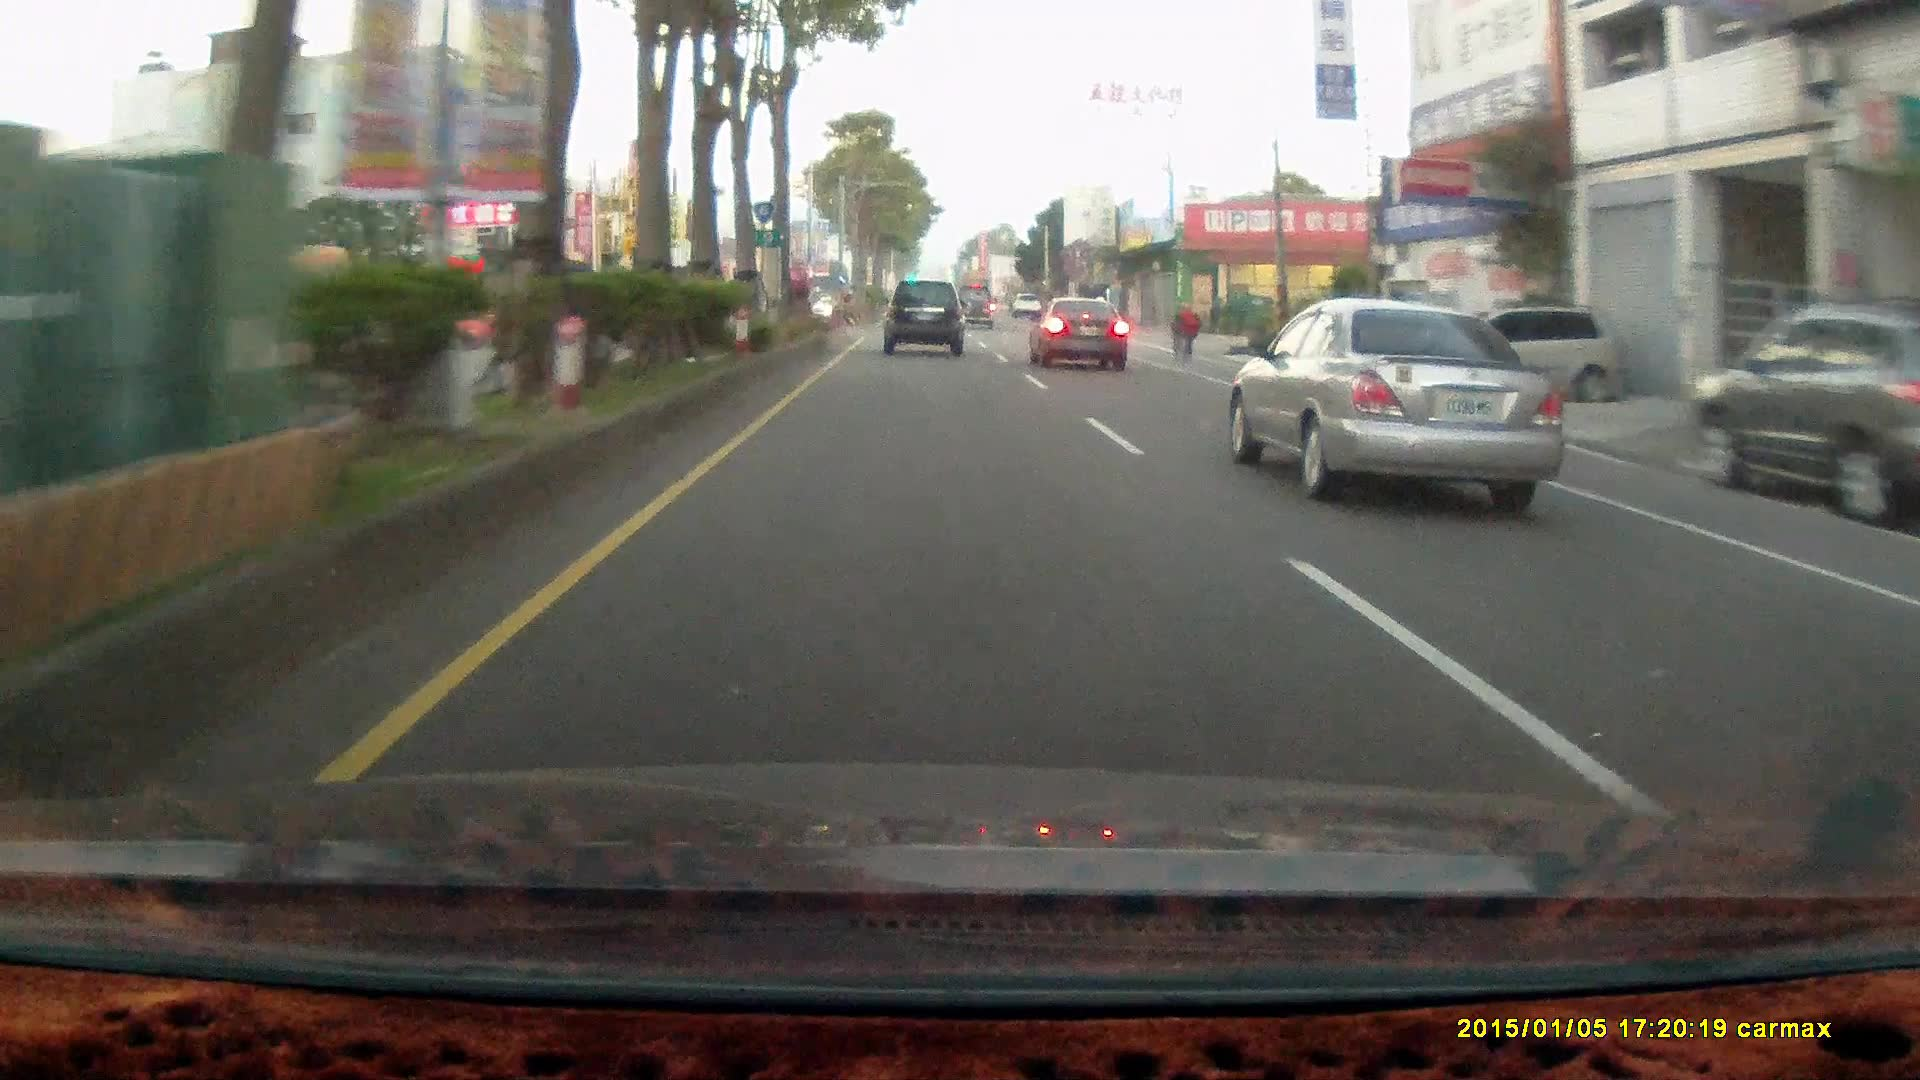pedestrian: (1177, 299, 1200, 356), (1178, 301, 1199, 357)
vehicle: (1236, 298, 1567, 498), (1687, 297, 1920, 528), (1682, 297, 1920, 518), (1430, 302, 1627, 403), (1431, 304, 1629, 406), (1027, 299, 1132, 375), (1026, 294, 1127, 370), (882, 281, 970, 357), (882, 278, 963, 353), (957, 281, 996, 327)
